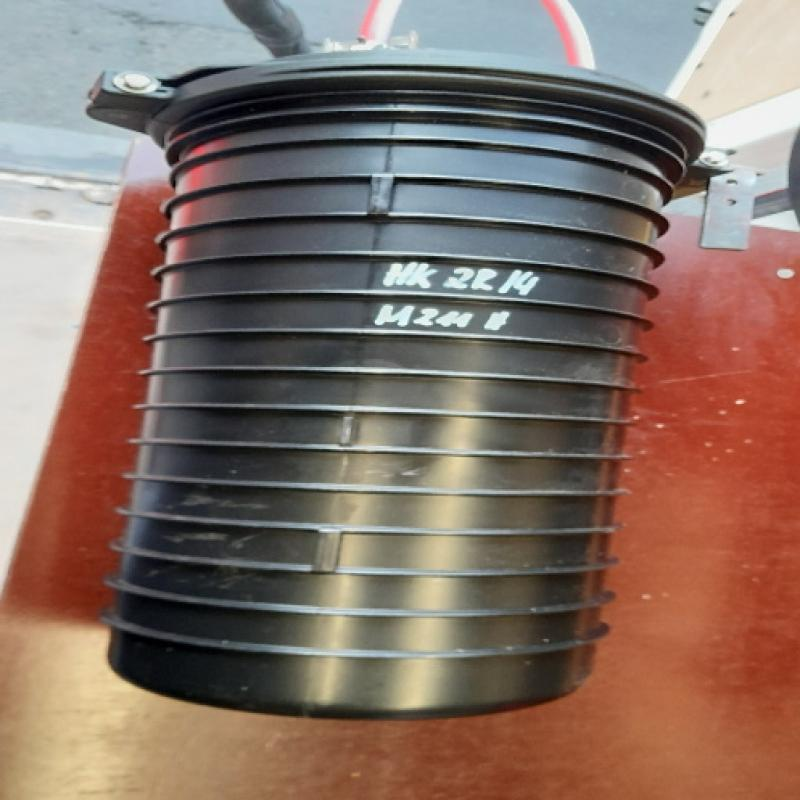NT-Muffen: (98, 62, 708, 726)
